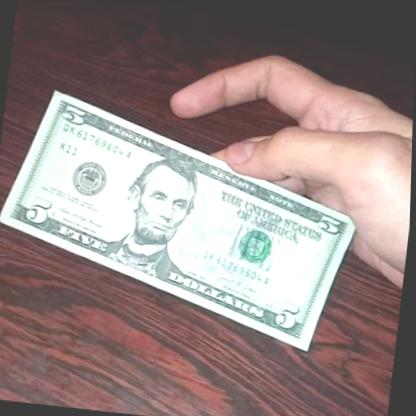five-front: (0, 80, 370, 349)
